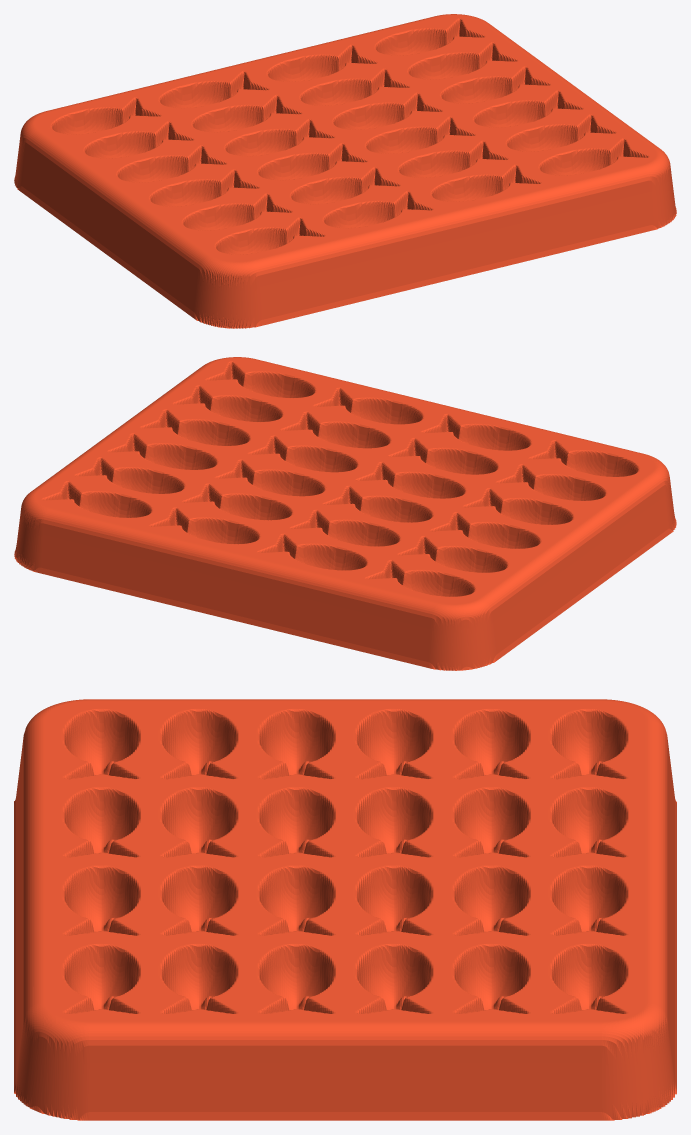
Rendered from mold.glb.
3 views of the same model, one above another, from view 1: azimuth 30°, elevation 25°; view 2: azimuth 150°, elevation 25°; view 3: azimuth 270°, elevation 25° (orthographic). The views are drawn at different scales.
Visible parts, largest first — view 1: geometry_0; view 2: geometry_0; view 3: geometry_0.
Boxes of the visible parts, left/top/right/bottom form: geometry_0: left=14, top=14, right=676, bottom=328; geometry_0: left=14, top=357, right=676, bottom=670; geometry_0: left=14, top=699, right=676, bottom=1120.
Size of the model in its own units: 0.098 by 0.0114 by 0.0793.
